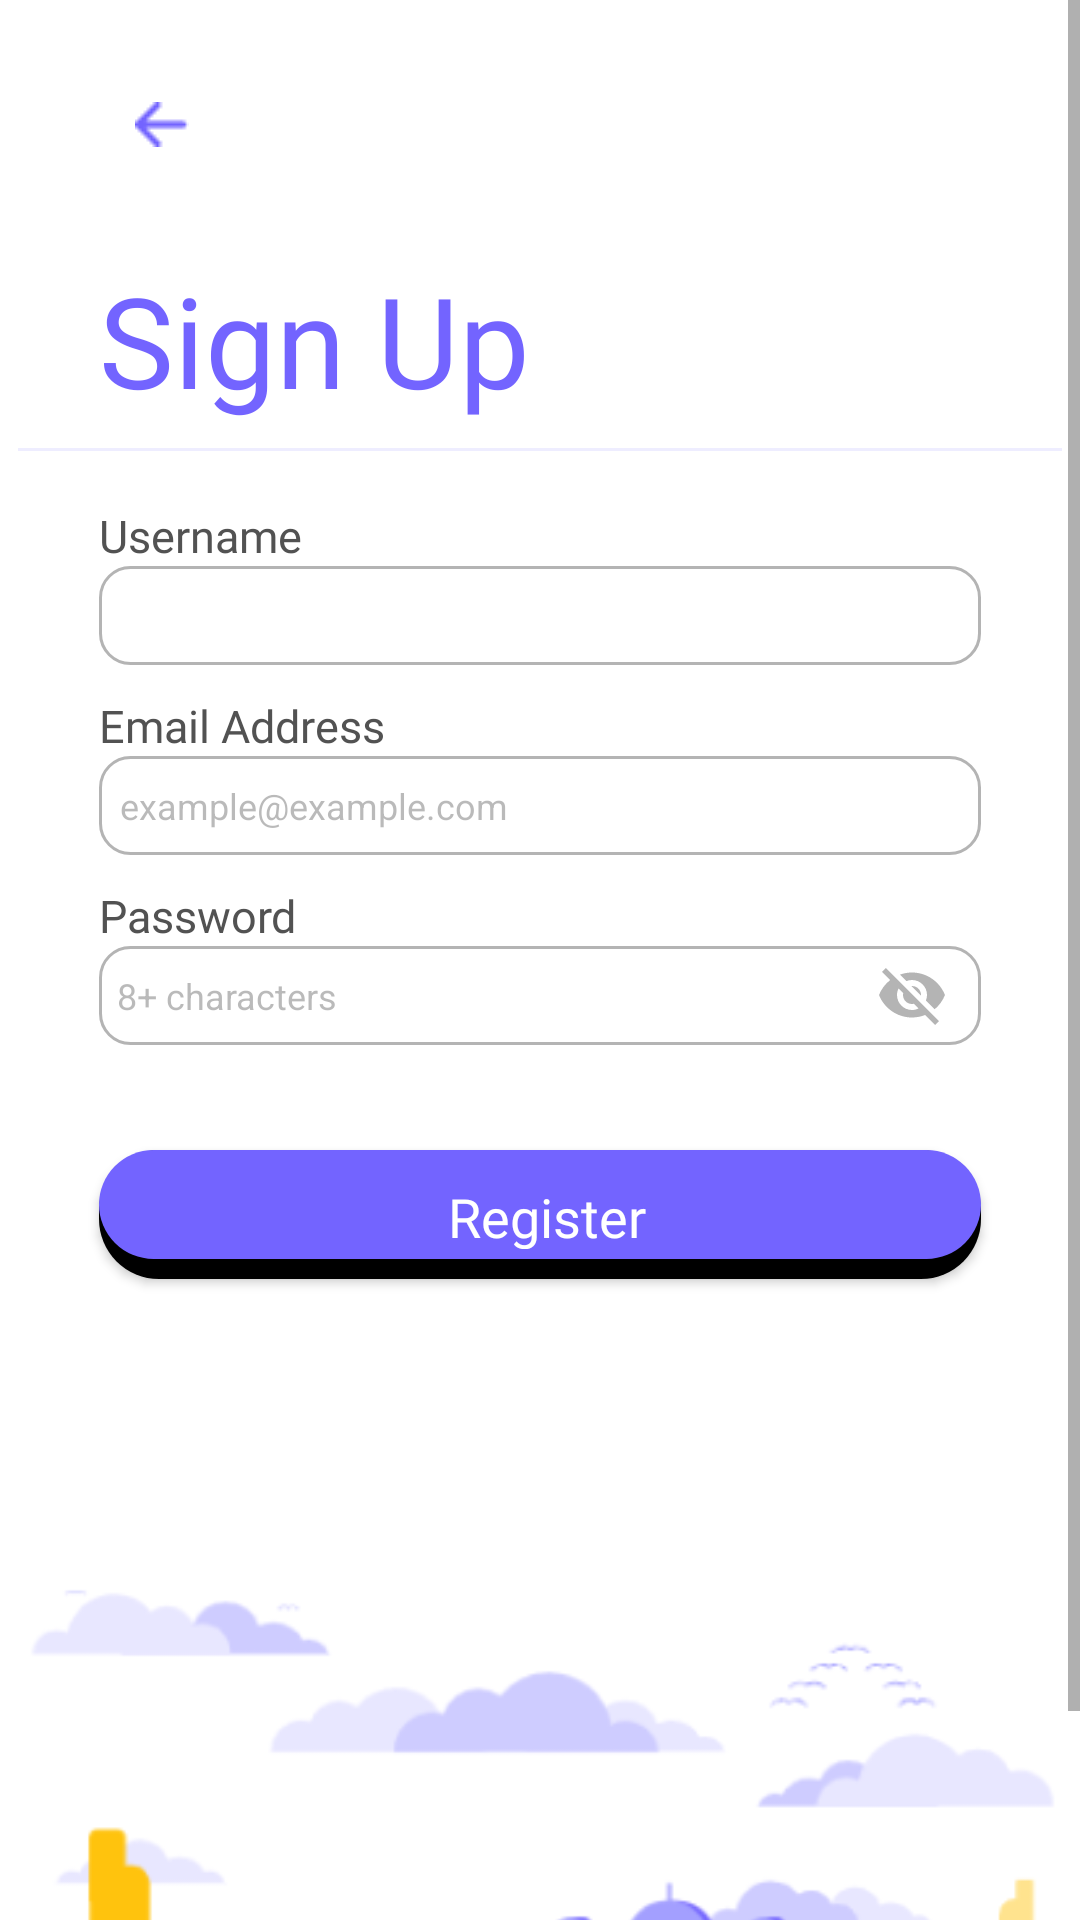

Locate icon controls on the screen. Image size 1080x1920, boxes as (x1, y1, x2, y2).
backstackarrow: (135, 102, 187, 147)
show password: (879, 968, 945, 1025)
